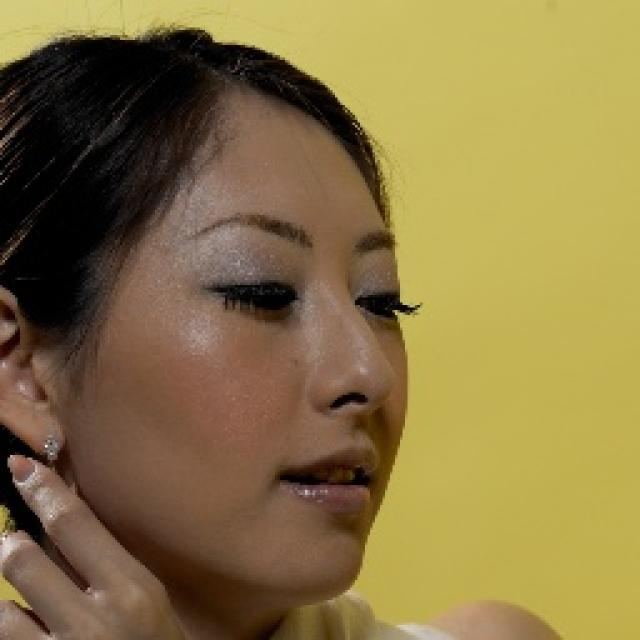earlobe: (0, 282, 69, 458)
